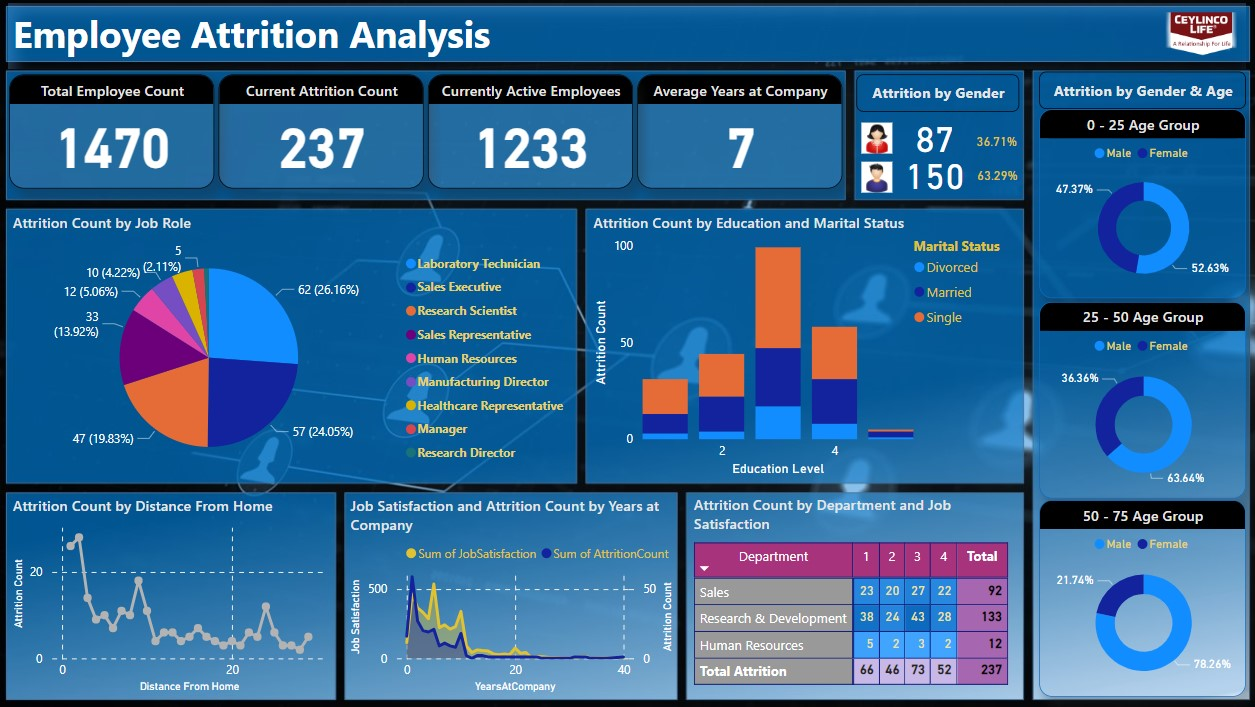

Layout of this report page (visuals, bound fields, positions):
{"tool":"powerbi","page":{"name":"Page 1","canvas":[1280,720],"ordinal":0},"visuals":[{"type":"textbox","box":[9.9,4.3,1258.5,66.7],"z":0},{"type":"card","title":"Total Employee Count","fields":{"Values":["Sum(Employee Attrition.EmployeeCount)"]},"box":[11.4,76.6,208.6,116.3],"z":1000},{"type":"card","title":"Average Years at Company","fields":{"Values":["Employee Attrition.AverageYears"]},"box":[649.8,76.6,208.6,116.3],"z":2000},{"type":"card","title":"Current Attrition Count","fields":{"Values":["Sum(Employee Attrition.AttritionCount)"]},"box":[224.2,76.6,208.6,116.3],"z":3000},{"type":"card","title":"Currently Active Employees","fields":{"Values":["Employee Attrition.ActiveEmployees"]},"box":[437,76.6,208.6,116.3],"z":4000},{"type":"card","fields":{"Values":["Employee Attrition.FemaleAttritionCount"]},"box":[918,113.5,68.1,52.5],"z":5000},{"type":"card","fields":{"Values":["Employee Attrition.MaleAttritionCount"]},"box":[912.3,153.2,79.5,48.2],"z":6000},{"type":"card","fields":{"Values":["Employee Attrition.PerMaleAttrition"]},"box":[988.9,161.7,53.9,36.9],"z":7000},{"type":"card","fields":{"Values":["Employee Attrition.PerFemaleAttrition"]},"box":[980.6,129,69.4,33.1],"z":8000},{"type":"textbox","box":[873.1,76.1,165.4,38],"z":9000},{"type":"pieChart","title":"Attrition Count by Job Role","fields":{"Category":["Employee Attrition.JobRole"],"Y":["Sum(Employee Attrition.AttritionCount)"]},"box":[9.9,216.6,578.7,272.8],"z":10000},{"type":"columnChart","title":"Attrition Count by Education and Marital Status","fields":{"Category":["Employee Attrition.Education"],"Y":["Sum(Employee Attrition.AttritionCount)"],"Series":["Employee Attrition.MaritalStatus"]},"box":[600.2,217.1,438.4,272.4],"z":11000},{"type":"lineChart","title":"Attrition Count by Distance From Home","fields":{"Category":["Employee Attrition.DistanceFromHome"],"Y":["Sum(Employee Attrition.AttritionCount)"]},"box":[9.9,505.1,329.2,204.3],"z":12000},{"type":"areaChart","title":"Job Satisfaction and Attrition Count by Years at Company","fields":{"Y":["Sum(Employee Attrition.JobSatisfaction)"],"Y2":["Sum(Employee Attrition.AttritionCount)"],"Category":["Employee Attrition.YearsAtCompany"]},"box":[353.3,505.1,337.7,204.3],"z":13000},{"type":"pivotTable","title":"Attrition Count by Department and Job Satisfaction","fields":{"Rows":["Employee Attrition.Department"],"Columns":["Employee Attrition.JobSatisfaction"],"Values":["Sum(Employee Attrition.AttritionCount)"]},"box":[702.8,504.3,335.7,205],"z":14000},{"type":"image","box":[1177.6,8.5,90.8,56.8],"z":15000},{"type":"donutChart","title":"0 - 25 Age Group","fields":{"Category":["Employee Attrition.Gender"],"Series":["Employee Attrition.AgeBand"],"Y":["Sum(Employee Attrition.AttritionCount)"]},"box":[1058.3,112.4,210,191.8],"z":16000},{"type":"donutChart","title":"25 - 50 Age Group","fields":{"Category":["Employee Attrition.Gender"],"Series":["Employee Attrition.AgeBand"],"Y":["Sum(Employee Attrition.AttritionCount)"]},"box":[1058.5,306.5,210,200.1],"z":17000},{"type":"donutChart","title":"50 - 75 Age Group","fields":{"Category":["Employee Attrition.Gender"],"Series":["Employee Attrition.AgeBand"],"Y":["Sum(Employee Attrition.AttritionCount)"]},"box":[1058.3,509.3,210,200.1],"z":18000},{"type":"textbox","box":[1058.3,74.4,210,38],"z":19000},{"type":"image","box":[873.1,120.7,41.3,41.3],"z":20000},{"type":"image","box":[873.1,160.4,41.3,41.3],"z":21000}]}

Visuals, with their boxes in screenshot pixels (x1, y1, x2, y2), scaled from the page's 1280x720 canvas onto the 1255x707 screenshot:
textbox: <region>10, 4, 1244, 70</region>
"Total Employee Count" card: <region>11, 75, 216, 189</region>
"Average Years at Company" card: <region>637, 75, 842, 189</region>
"Current Attrition Count" card: <region>220, 75, 424, 189</region>
"Currently Active Employees" card: <region>428, 75, 633, 189</region>
card - Employee Attrition.FemaleAttritionCount: <region>900, 111, 967, 163</region>
card - Employee Attrition.MaleAttritionCount: <region>894, 150, 972, 198</region>
card - Employee Attrition.PerMaleAttrition: <region>970, 159, 1022, 195</region>
card - Employee Attrition.PerFemaleAttrition: <region>961, 127, 1029, 159</region>
textbox: <region>856, 75, 1018, 112</region>
"Attrition Count by Job Role" pieChart: <region>10, 213, 577, 481</region>
"Attrition Count by Education and Marital Status" columnChart: <region>588, 213, 1018, 481</region>
"Attrition Count by Distance From Home" lineChart: <region>10, 496, 332, 697</region>
"Job Satisfaction and Attrition Count by Years at Company" areaChart: <region>346, 496, 678, 697</region>
"Attrition Count by Department and Job Satisfaction" pivotTable: <region>689, 495, 1018, 696</region>
image: <region>1155, 8, 1244, 64</region>
"0 - 25 Age Group" donutChart: <region>1038, 110, 1244, 299</region>
"25 - 50 Age Group" donutChart: <region>1038, 301, 1244, 497</region>
"50 - 75 Age Group" donutChart: <region>1038, 500, 1244, 697</region>
textbox: <region>1038, 73, 1244, 110</region>
image: <region>856, 119, 897, 159</region>
image: <region>856, 158, 897, 198</region>
